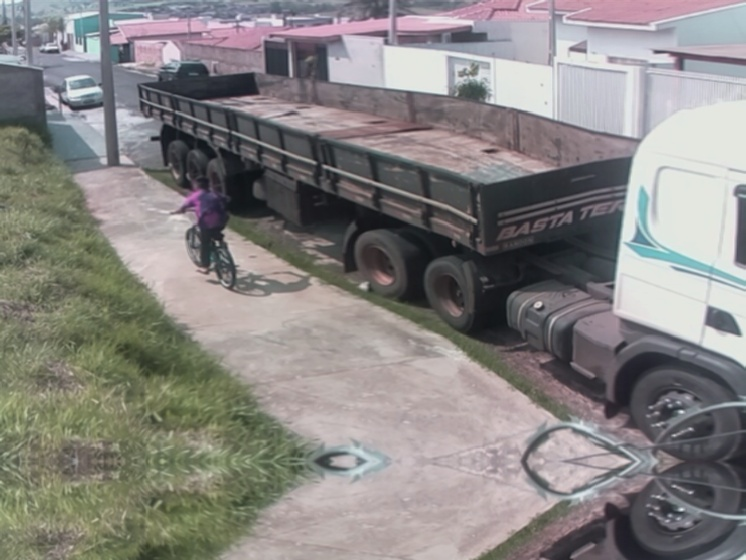person: (169, 176, 234, 276)
